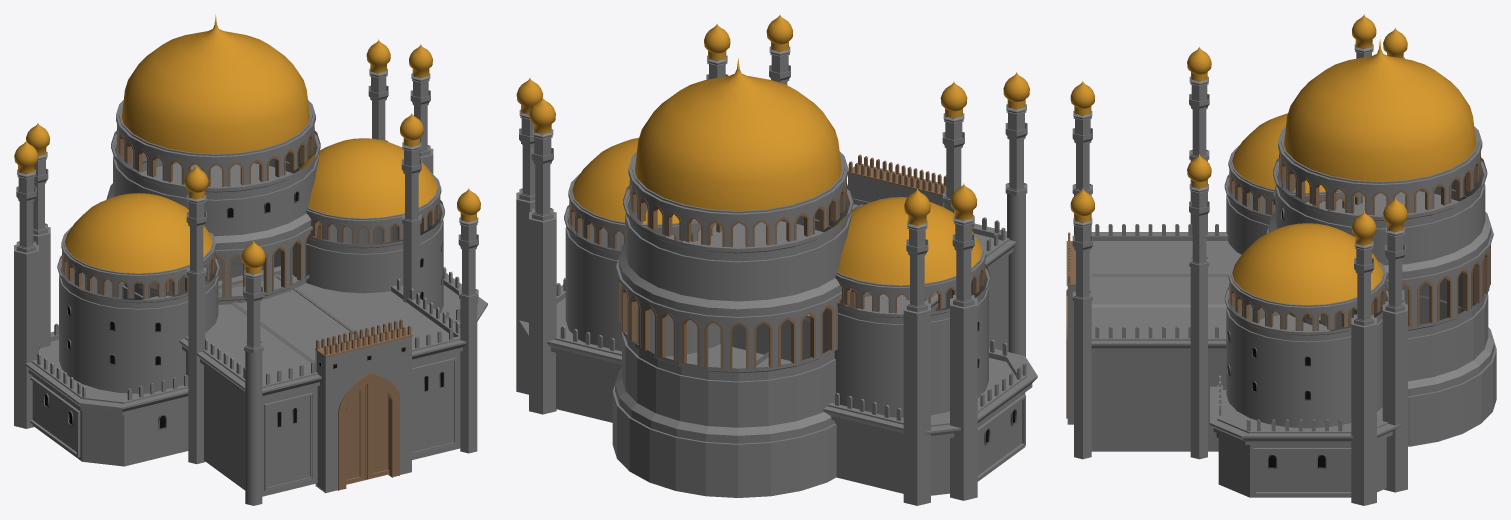
Rendered from SM_mosque_large.fbx.
3 views of the same model, side by side, from view 1: azimuth 30°, elevation 25°; view 2: azimuth 150°, elevation 25°; view 3: azimuth 270°, elevation 25° (orthographic). The views are drawn at different scales.
Parts seen in each view (by area): view 1: Sphere007; view 2: Sphere007; view 3: Sphere007.
Part boxes in pixels (x1,y1,x2,y2): Sphere007: (14, 14, 487, 505); Sphere007: (516, 14, 1037, 505); Sphere007: (1066, 14, 1496, 505).
Bounding box in the file's own units: 1771 × 1542 × 1441.
